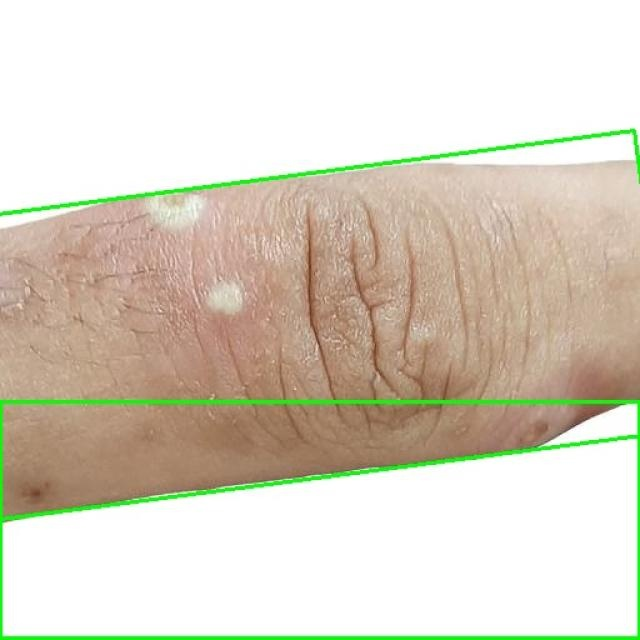Scabies: (0, 130, 640, 521), (0, 402, 639, 639)
